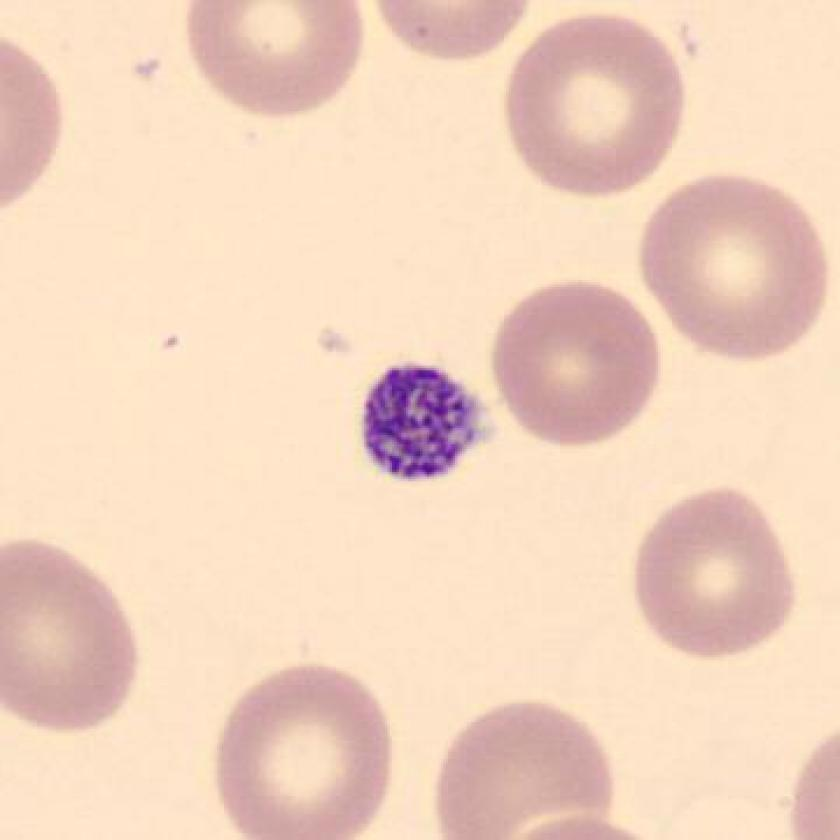platelets: (344, 353, 500, 501)
